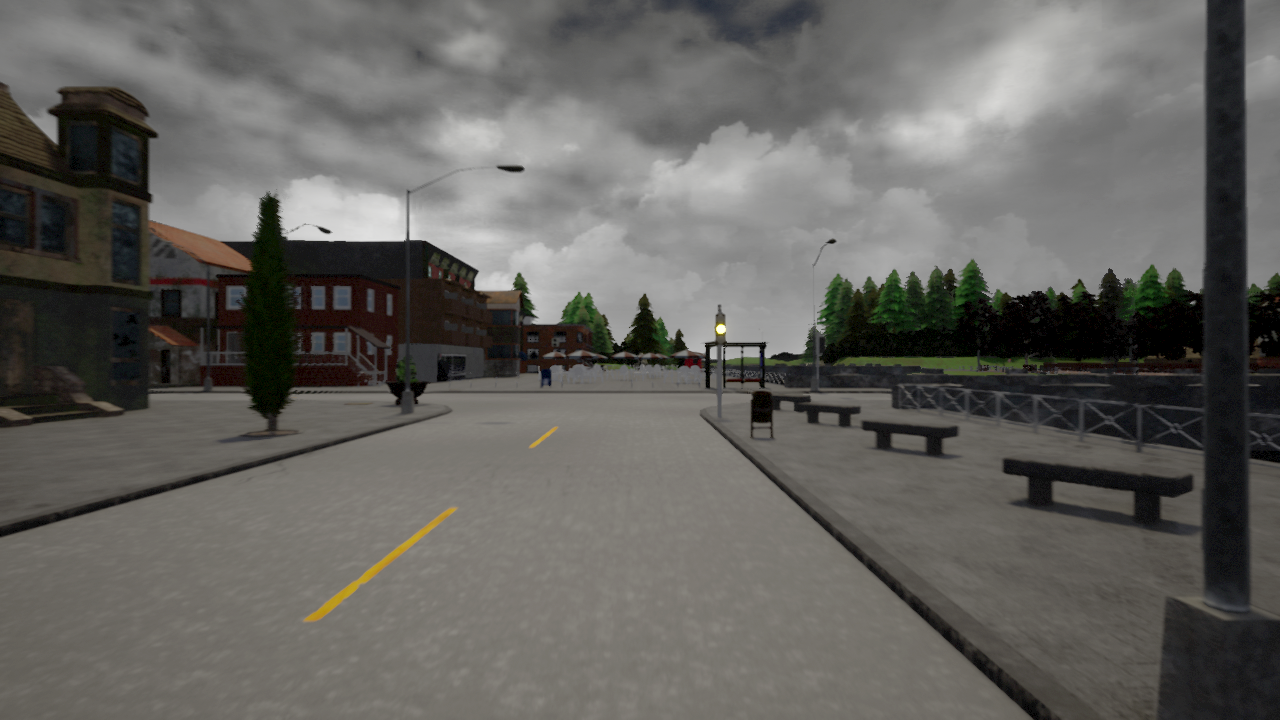yellow: (713, 314, 727, 345)
